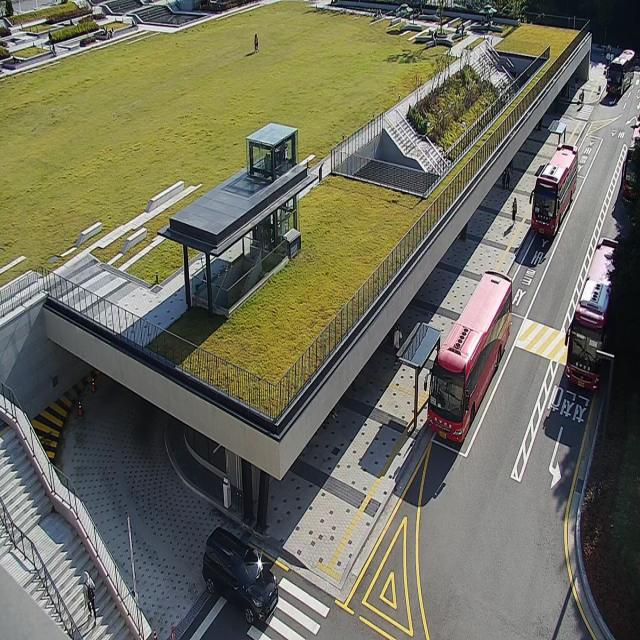queue: (415, 334, 441, 429)
